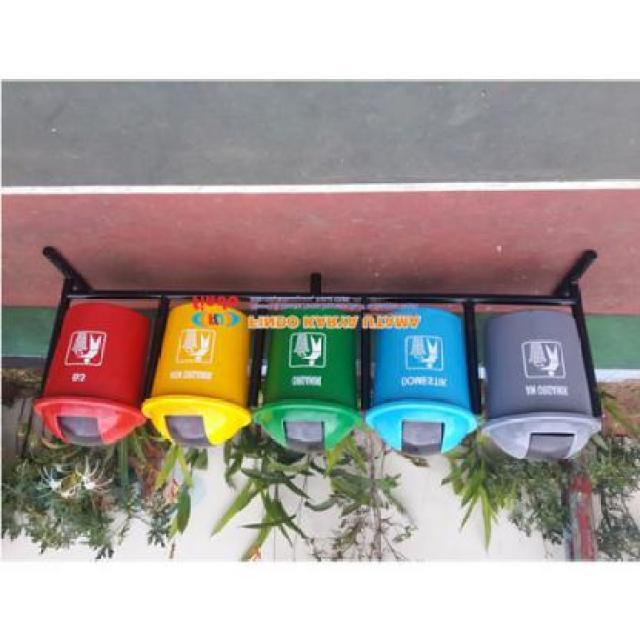garbage container: (478, 293, 612, 467), (361, 305, 481, 460), (30, 298, 152, 449), (252, 307, 363, 461), (147, 293, 253, 452)
